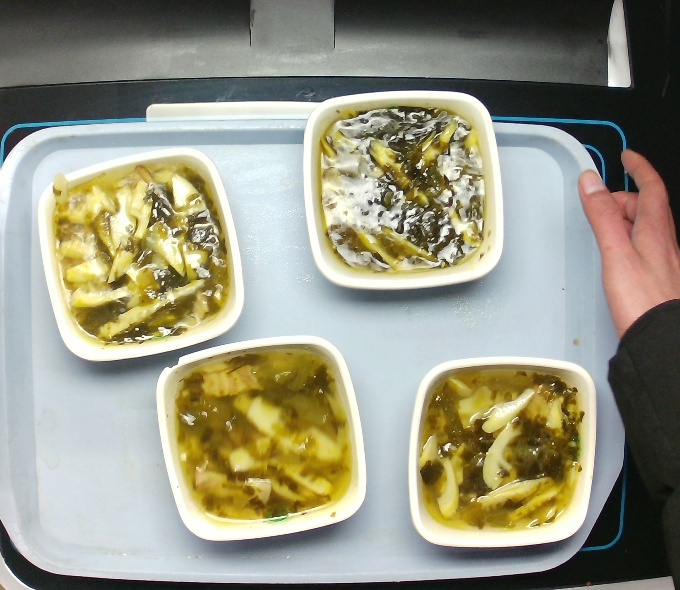wcq-DongSunTang: (43, 156, 237, 350), (167, 342, 359, 529), (309, 96, 494, 280), (412, 362, 589, 541)
